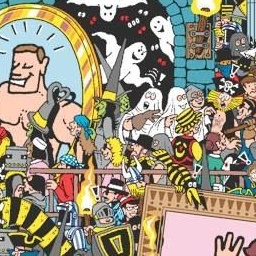waldo: (116, 195, 140, 223)
